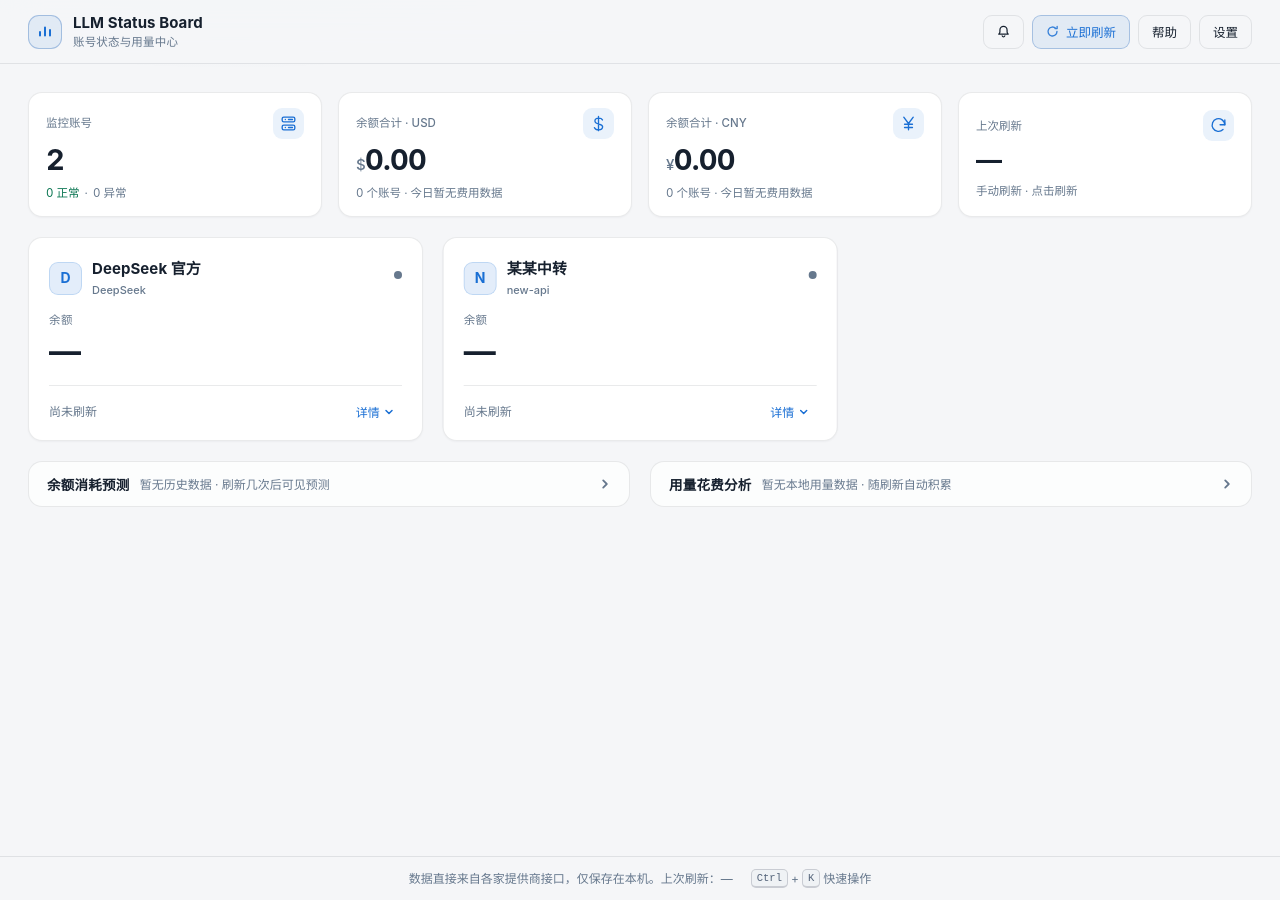
Test case: App 看板 › 刷新后渲染账号卡片与汇总（成功与失败并存）
The width and height of the screenshot is (1280, 900).
expect the text "DeepSeek 官方" is shown: met, box left=92, top=258, right=201, bottom=281
expect the text "某某中转" is shown: met, box left=507, top=258, right=567, bottom=281
点「立即刷新」触发 refresh_all
Click the button "立即刷新": (1081, 32) left=1032, top=14, right=1130, bottom=48
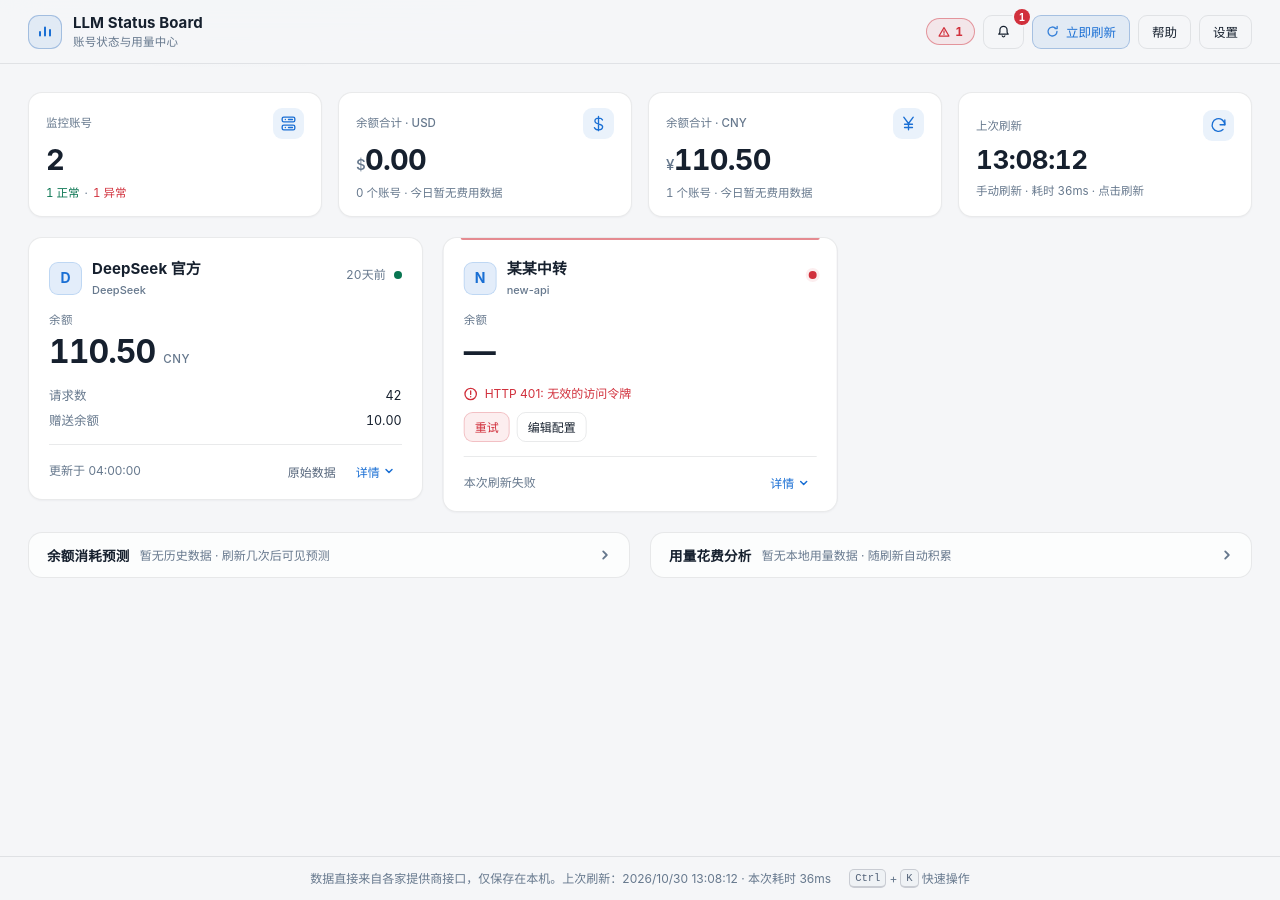
expect the text "42" is shown: met, box left=385, top=387, right=402, bottom=406
expect the text "赠送余额" is shown: met, box left=49, top=412, right=99, bottom=430
expect the button "HTTP 401: 无效的访问令牌" is shown: met, box left=485, top=385, right=816, bottom=403
